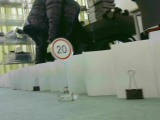speed_20: (49, 37, 74, 60)
